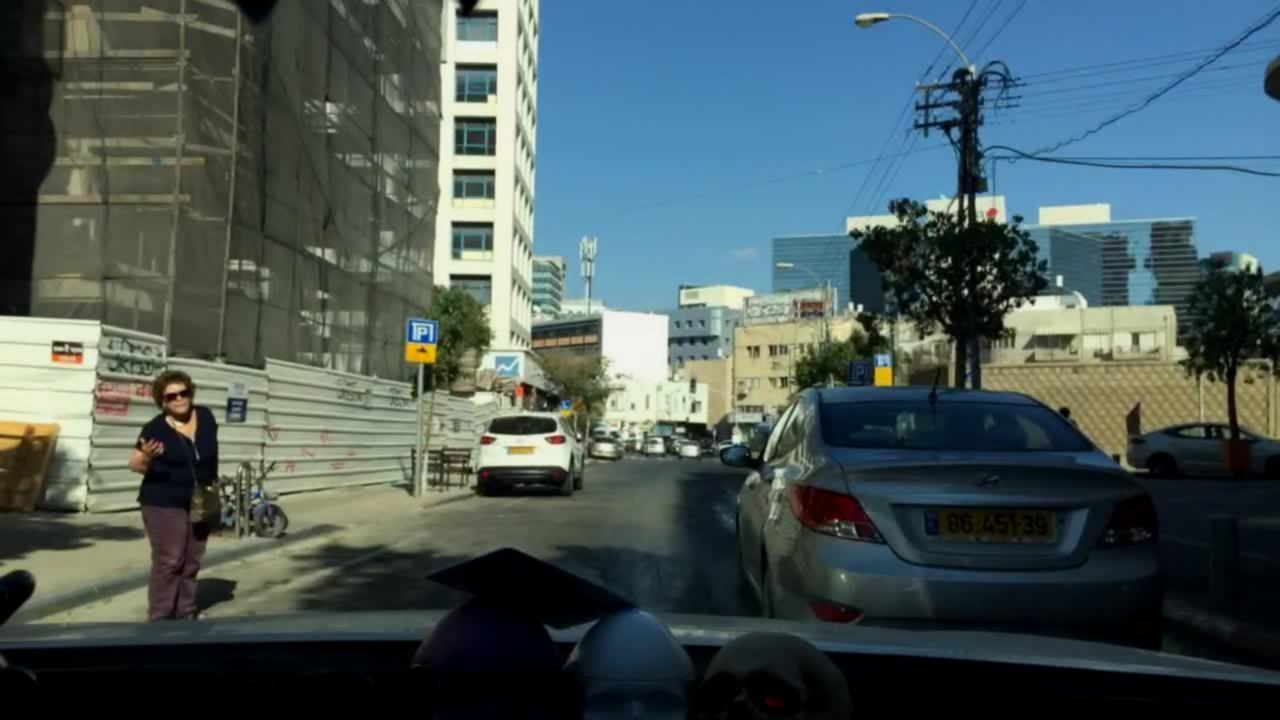Hyundai: (964, 461, 1011, 497)
